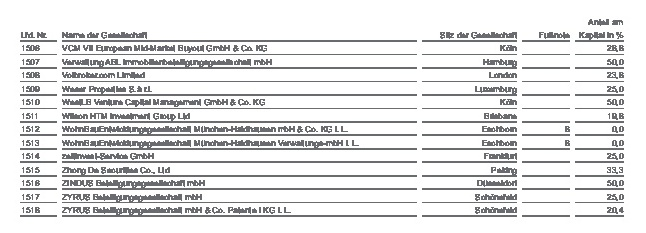table: (0, 0, 646, 233)
